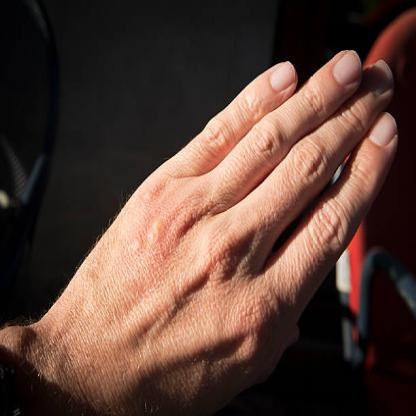Bed Bug: (124, 212, 170, 258), (136, 185, 161, 201)
